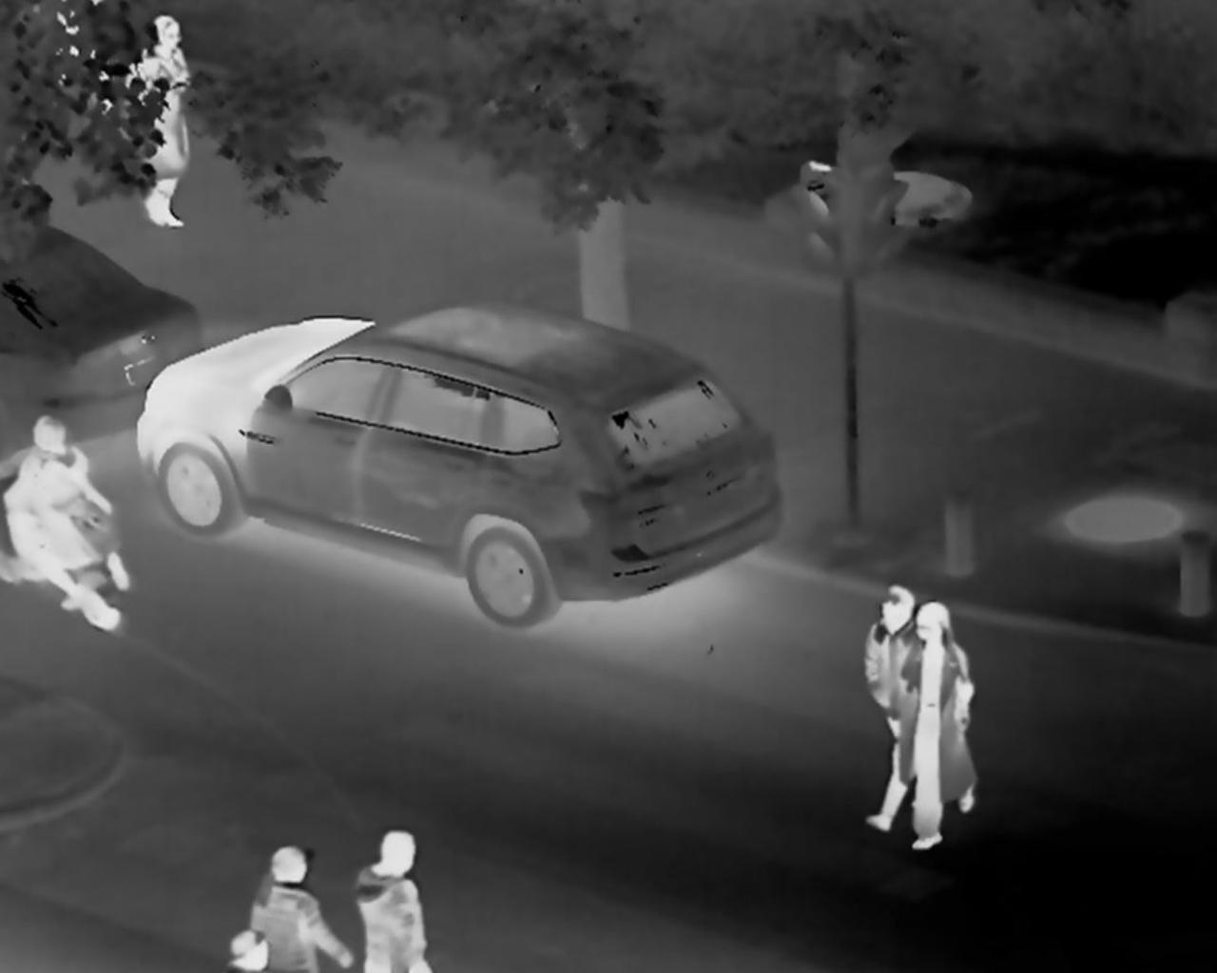person: (10, 407, 139, 615), (106, 11, 223, 216), (910, 592, 994, 822), (350, 808, 452, 973), (866, 572, 908, 866), (254, 850, 333, 973)
